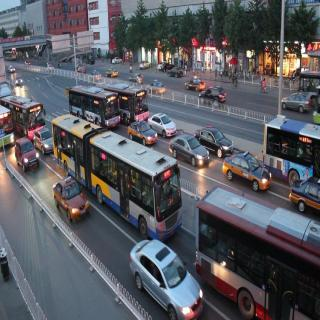BigCar: (52, 110, 183, 242), (197, 187, 320, 316), (262, 113, 320, 181), (67, 83, 120, 129)
Car: (126, 238, 203, 318), (223, 148, 270, 192), (52, 176, 90, 224), (194, 124, 234, 158), (169, 135, 209, 166), (13, 135, 38, 174), (280, 90, 310, 116), (150, 113, 176, 138), (130, 120, 155, 145), (200, 84, 229, 104), (34, 127, 52, 153), (146, 80, 166, 98), (186, 76, 204, 92), (129, 71, 145, 86), (168, 66, 185, 80), (105, 65, 118, 79), (90, 70, 101, 83), (139, 59, 150, 71), (86, 54, 96, 67), (111, 57, 123, 64)
